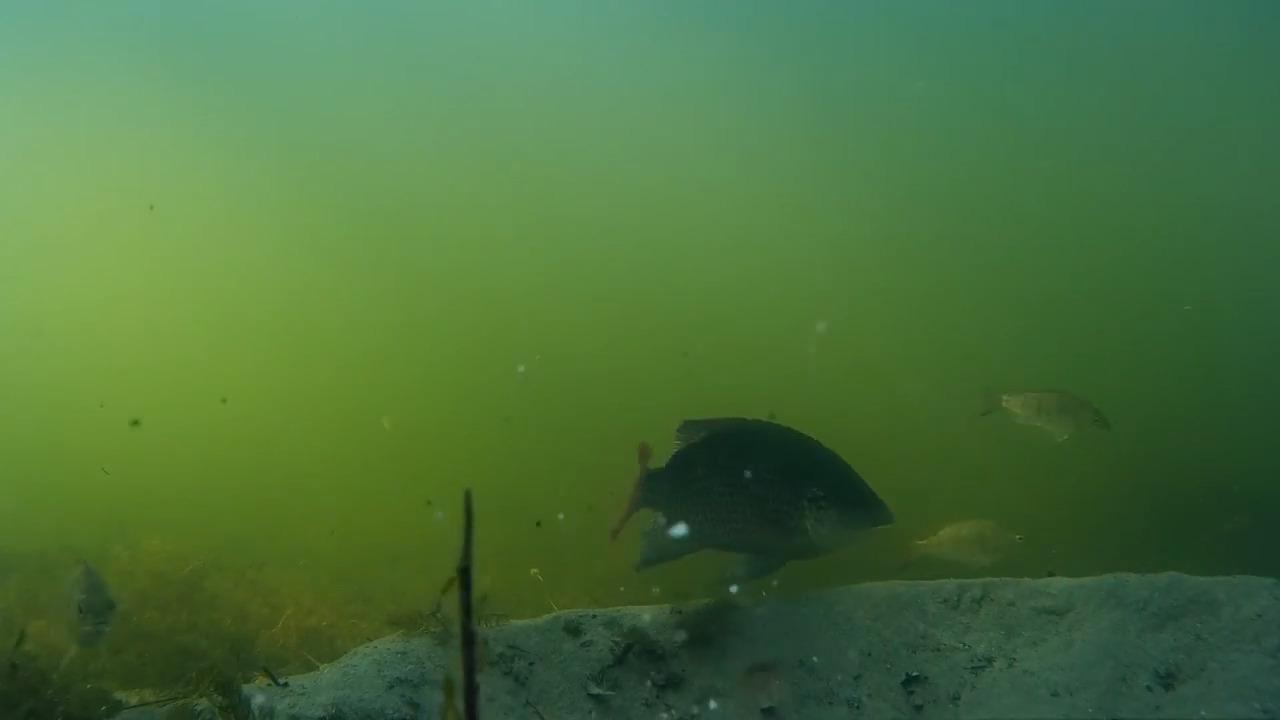Tilapia: (613, 414, 896, 592), (49, 556, 131, 684), (982, 372, 1119, 446), (898, 512, 1035, 580)
